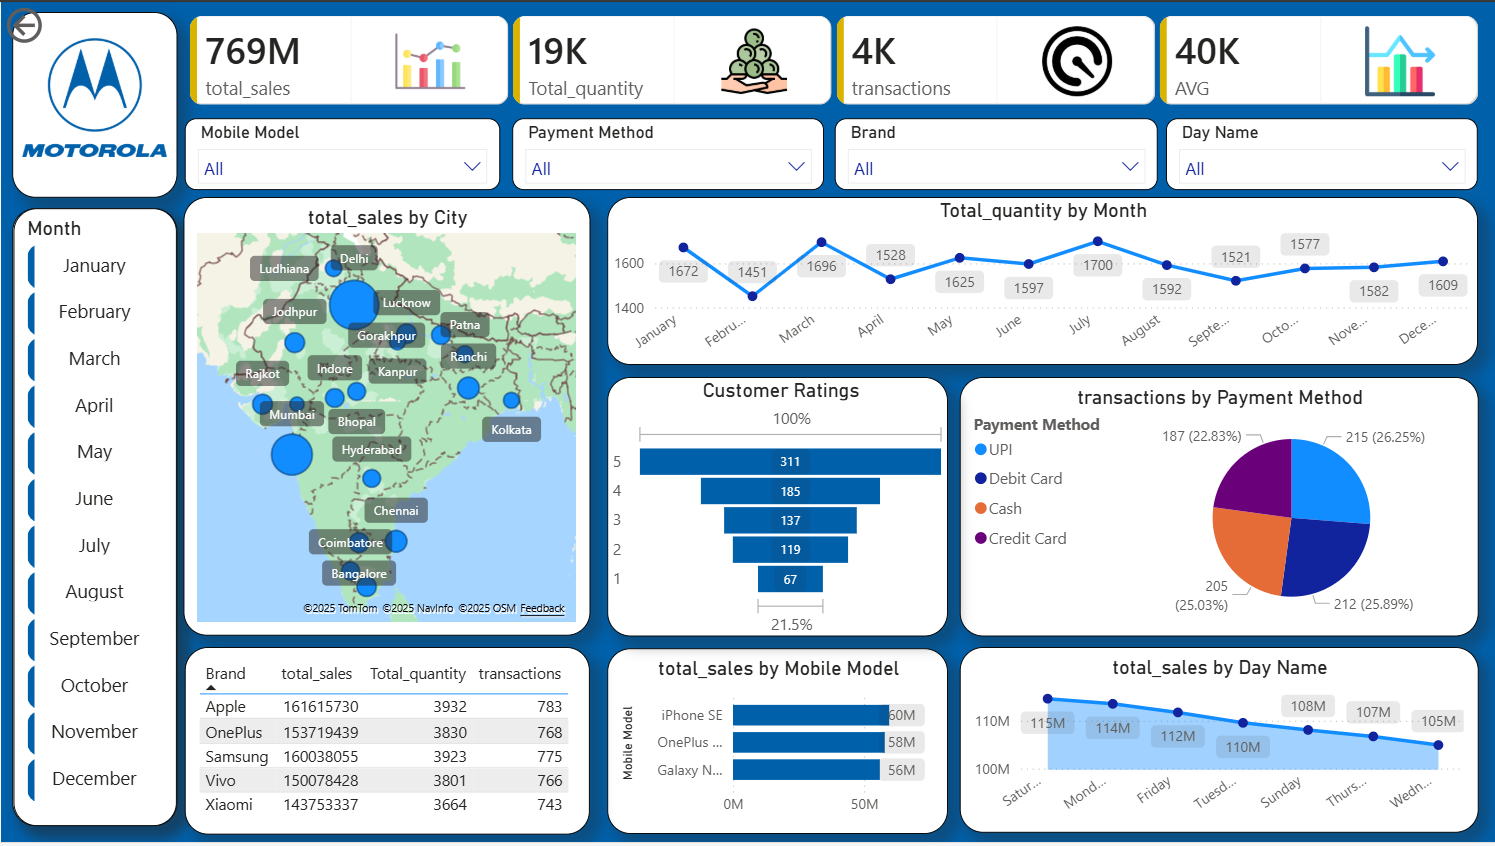

Layout of this report page (visuals, bound fields, positions):
{"tool":"powerbi","page":{"name":"Page 1","canvas":[1280,720],"ordinal":0},"visuals":[{"type":"shape","box":[9.6,8.2,141.3,159.2],"z":0},{"type":"image","box":[15.1,20.6,130.4,123.5],"z":1000},{"type":"shape","box":[9.6,177,141.3,529.7],"z":2000},{"type":"advancedSlicerVisual","fields":{"Values":["sales data.date.Variation.Date Hierarchy.Month"]},"box":[11,177,140,529.7],"z":3000},{"type":"cardVisual","fields":{"Data":["sales data.total_sales","sales data.Total_quantity","sales data.transactions","sales data.AVG"]},"box":[149.6,0,1130.7,100.2],"z":4000},{"type":"azureMap","fields":{"Category":["sales data.City"],"Size":["sales data.total_sales"]},"box":[156.4,167.4,348.5,376],"z":5000},{"type":"lineChart","fields":{"Y":["sales data.Total_quantity"],"Category":["sales data.date.Variation.Date Hierarchy.Month","sales data.date.Variation.Date Hierarchy.Day"]},"box":[520.1,167.4,746.5,144.1],"z":6000},{"type":"barChart","fields":{"Category":["sales data.Mobile Model"],"Y":["sales data.total_sales"]},"box":[520.1,554.4,292.3,159.2],"z":7000},{"type":"pieChart","fields":{"Category":["sales data.Payment Method"],"Y":["sales data.transactions"]},"box":[822,321.1,444.6,222.3],"z":8000},{"type":"funnel","title":"Customer Ratings","fields":{"Category":["sales data.Customer Ratings"],"Y":["CountNonNull(sales data.Customer Ratings)"]},"box":[520.1,321.1,292.3,222.3],"z":9000},{"type":"areaChart","fields":{"Category":["sales data.Day Name"],"Y":["sales data.total_sales"]},"box":[822,553,444.6,159.2],"z":10000},{"type":"tableEx","fields":{"Values":["sales data.Brand","sales data.total_sales","sales data.Total_quantity","sales data.transactions"]},"box":[157.8,553,347.2,160.5],"z":11000},{"type":"actionButton","box":[0,0,100,40],"z":12000},{"type":"slicer","fields":{"Values":["sales data.Day Name"]},"box":[999,100.2,267.6,61.7],"z":13000},{"type":"slicer","fields":{"Values":["sales data.Brand"]},"box":[714.9,100.2,277.2,61.7],"z":14000},{"type":"slicer","fields":{"Values":["sales data.Payment Method"]},"box":[437.7,100.2,267.6,61.7],"z":15000},{"type":"slicer","fields":{"Values":["sales data.Mobile Model"]},"box":[157.8,100.2,270.3,61.7],"z":16000}]}

Visuals, with their boxes in screenshot pixels (x1, y1, x2, y2), scaled from the page's 1280x720 canvas onto the 1495x846 screenshot:
shape: bbox(11, 10, 176, 197)
image: bbox(18, 24, 170, 169)
shape: bbox(11, 208, 176, 830)
advancedSlicerVisual - sales data.date.Variation.Date Hierarchy.Month: bbox(13, 208, 176, 830)
cardVisual - sales data.total_sales x sales data.Total_quantity: bbox(175, 0, 1494, 118)
azureMap - sales data.City x sales data.total_sales: bbox(183, 197, 590, 638)
lineChart - sales data.Total_quantity x sales data.date.Variation.Date Hierarchy.Month: bbox(607, 197, 1479, 366)
barChart - sales data.Mobile Model x sales data.total_sales: bbox(607, 651, 949, 838)
pieChart - sales data.Payment Method x sales data.transactions: bbox(960, 377, 1479, 638)
"Customer Ratings" funnel: bbox(607, 377, 949, 638)
areaChart - sales data.Day Name x sales data.total_sales: bbox(960, 650, 1479, 837)
tableEx - sales data.Brand x sales data.total_sales: bbox(184, 650, 590, 838)
actionButton: bbox(0, 0, 117, 47)
slicer - sales data.Day Name: bbox(1167, 118, 1479, 190)
slicer - sales data.Brand: bbox(835, 118, 1159, 190)
slicer - sales data.Payment Method: bbox(511, 118, 824, 190)
slicer - sales data.Mobile Model: bbox(184, 118, 500, 190)
